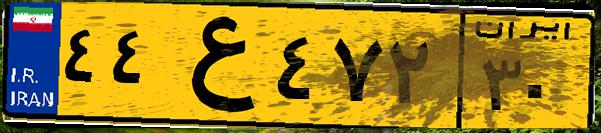0: (525, 38, 570, 115)
2: (385, 28, 445, 110)
3: (475, 38, 525, 113)
4: (270, 28, 330, 110), (57, 26, 110, 100), (110, 28, 158, 98)
7: (330, 28, 385, 110)
ع: (158, 12, 270, 120)
